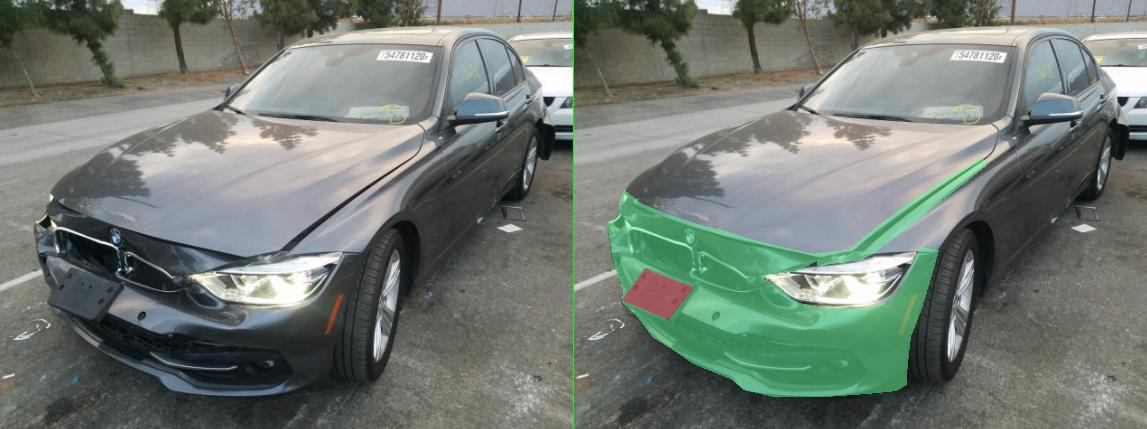Broken part: (68, 190, 729, 396), (484, 157, 825, 265), (118, 227, 366, 292)
Missing part: (96, 269, 238, 319)
